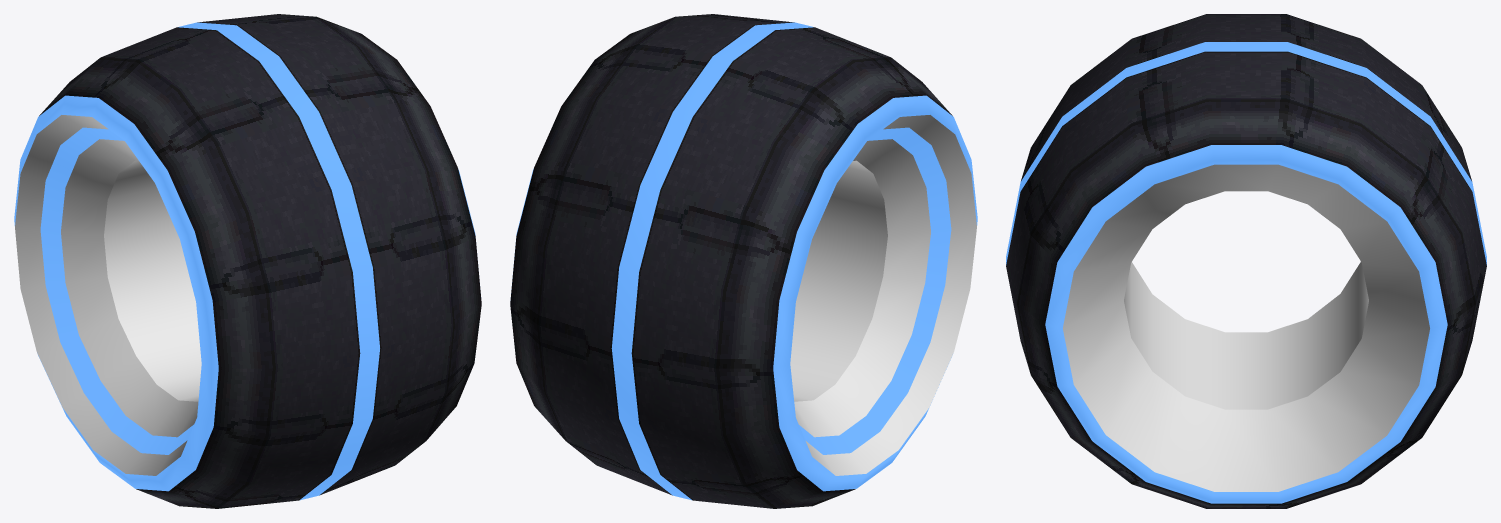
Rendered from runner01leftFrontTyre.glb.
3 views of the same model, side by side, from view 1: azimuth 30°, elevation 25°; view 2: azimuth 150°, elevation 25°; view 3: azimuth 270°, elevation 25° (orthographic).
Parts seen in each view (by area): view 1: tyreFrontLeft, rimFrontLeft, frontLeftWheelGlow; view 2: tyreFrontLeft, rimFrontLeft, frontLeftWheelGlow; view 3: tyreFrontLeft, rimFrontLeft, frontLeftWheelGlow.
Part boxes in pixels (x1,y1,x2,y2): tyreFrontLeft: (39, 14, 481, 508); rimFrontLeft: (15, 115, 201, 475); frontLeftWheelGlow: (14, 22, 475, 500); tyreFrontLeft: (510, 14, 952, 508); rimFrontLeft: (790, 115, 976, 475); frontLeftWheelGlow: (511, 22, 977, 500); tyreFrontLeft: (1006, 14, 1486, 508); rimFrontLeft: (1063, 164, 1429, 491); frontLeftWheelGlow: (1006, 42, 1486, 503).
Size of the model in its own units: 0.7511 by 1.12 by 1.14.
Materials: 3 (1 with a texture image).
